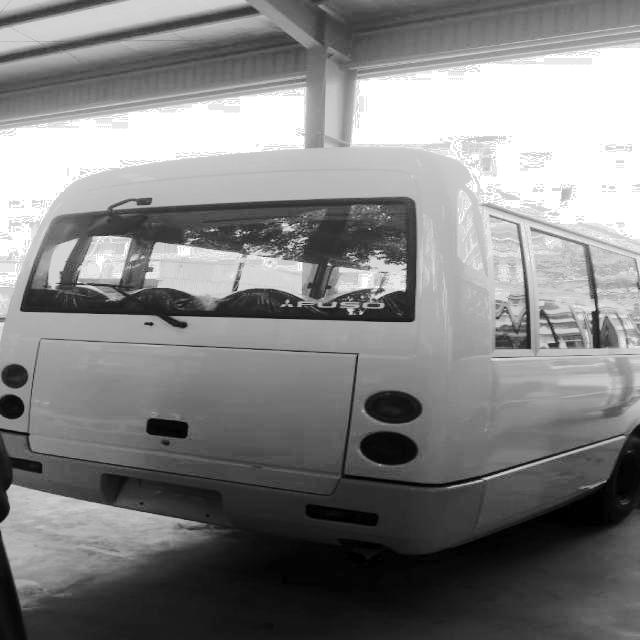Bus: (1, 135, 640, 571)
